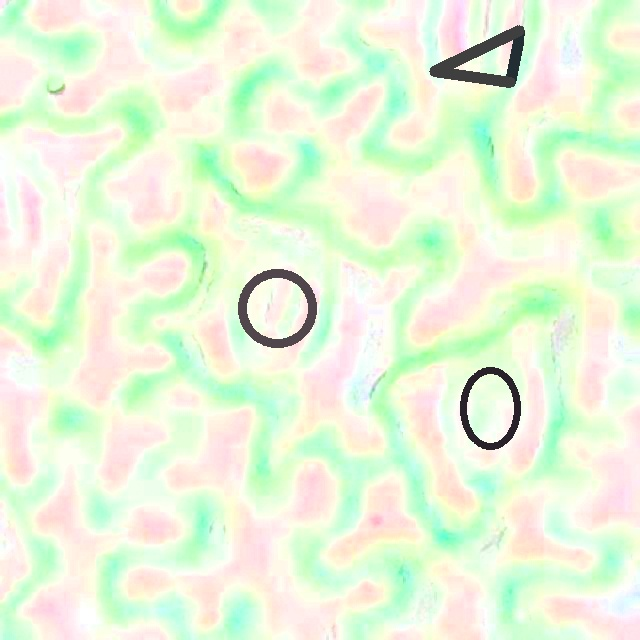open: (237, 267, 318, 348), (430, 26, 523, 87), (459, 366, 521, 451)
